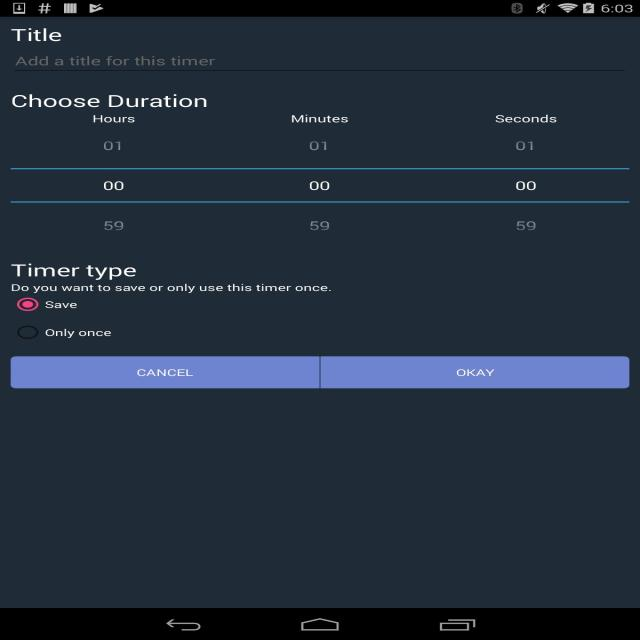button: (11, 113, 632, 245), (322, 358, 629, 388), (12, 358, 318, 388), (16, 297, 41, 312), (17, 325, 39, 341)
field: (10, 50, 627, 74)
heading: (11, 92, 208, 112), (13, 262, 138, 280), (9, 26, 65, 45)
label: (15, 54, 219, 68)
text: (13, 283, 333, 293), (41, 327, 116, 339), (493, 114, 560, 125), (290, 114, 352, 125), (88, 115, 139, 124), (42, 300, 80, 312)
